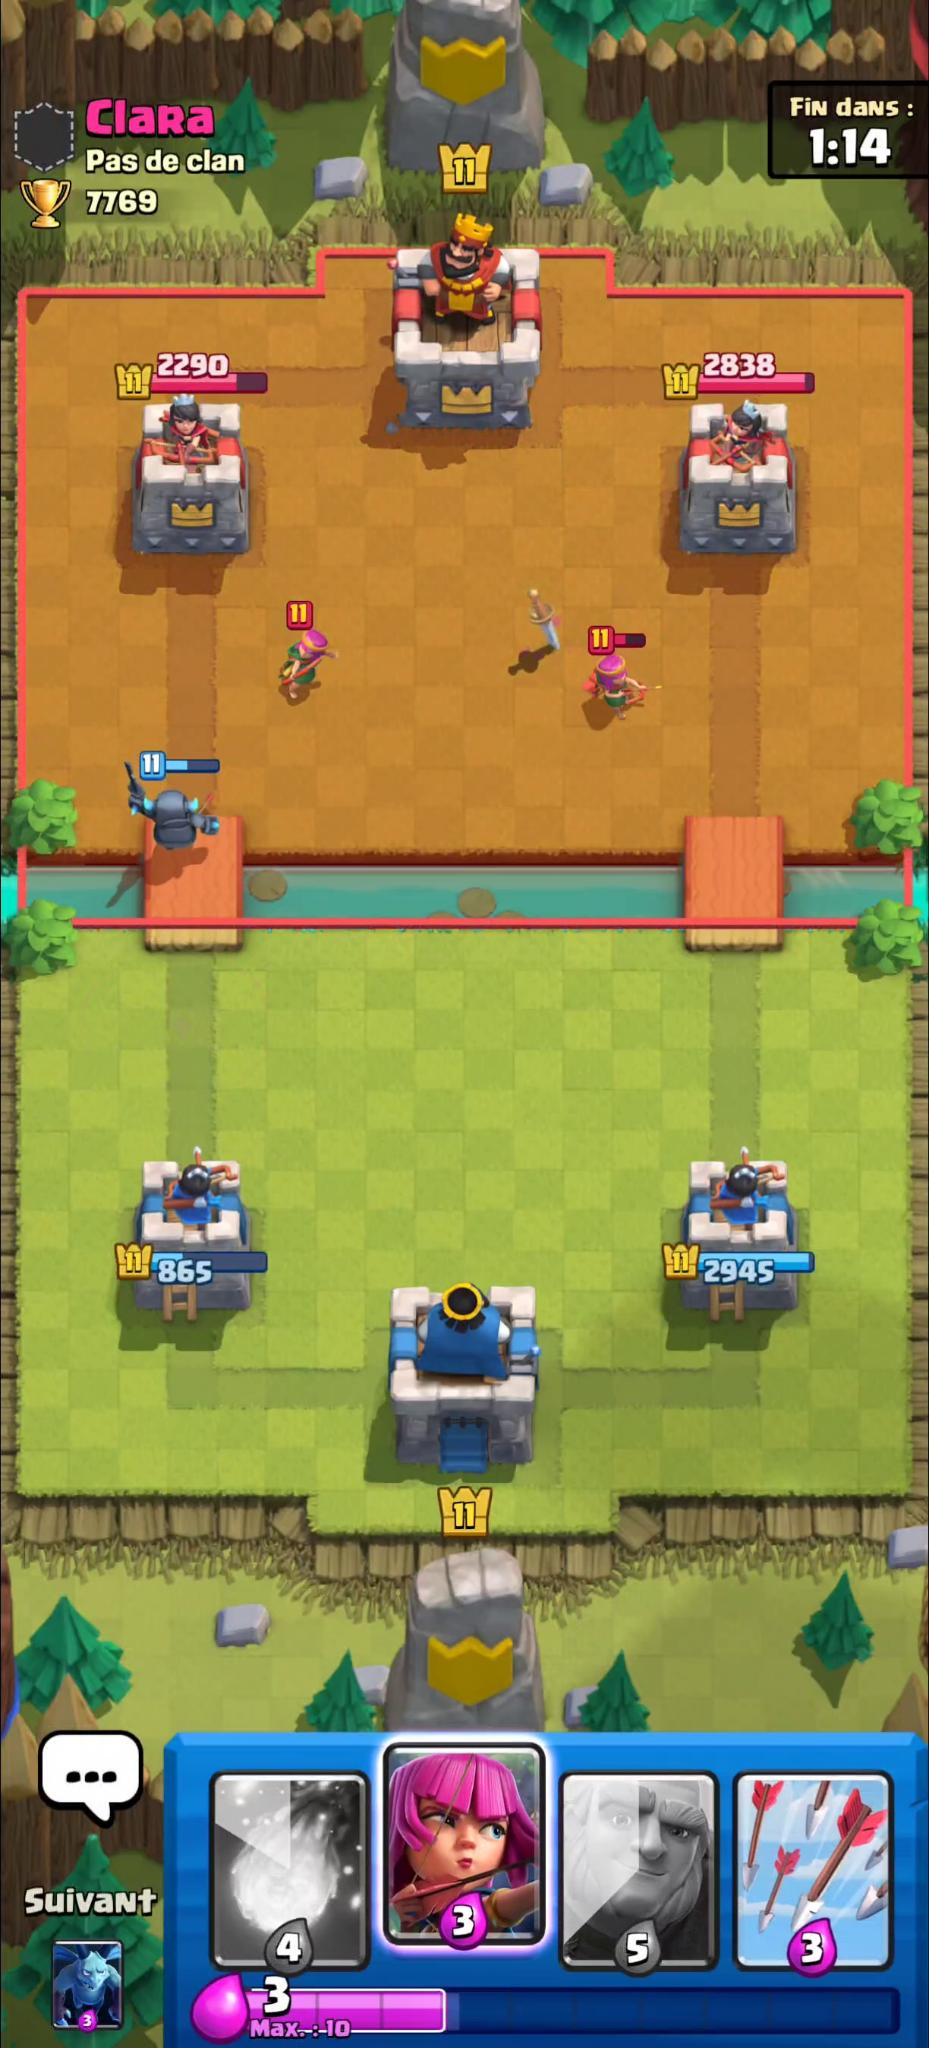archere: (585, 652, 669, 722), (280, 628, 340, 707)
mini_PEKKA: (122, 759, 227, 850)
